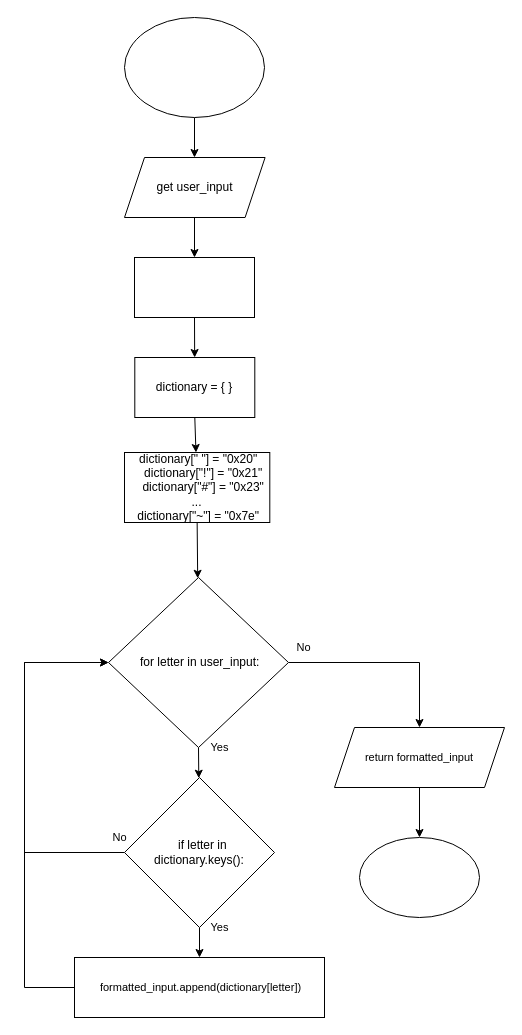
The diagram is 522 pixels wide and 1035 high, and some of its shapes have lost their labels. Here are the shapes that lost their labels. From the top down, the centre of each, then its label:
the point at 194,67: Start
the point at 194,287: formatted_input = [ ]
the point at 419,877: Stop
